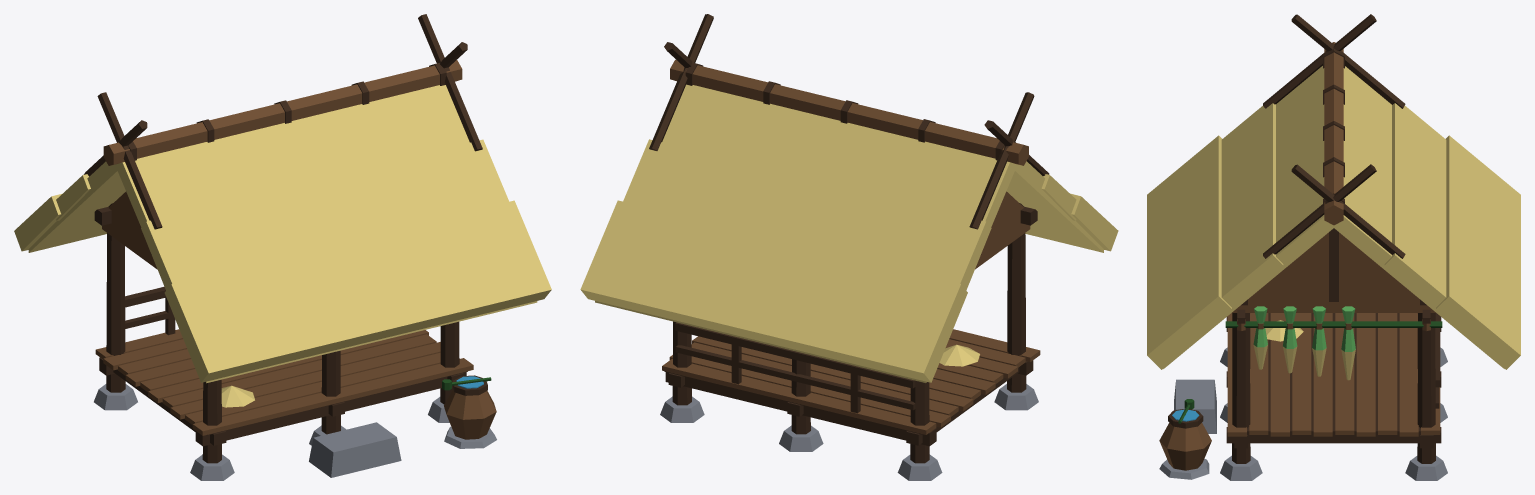
3 renders of one model, left to right at view 1: azimuth 30°, elevation 25°; view 2: azimuth 150°, elevation 25°; view 3: azimuth 270°, elevation 25°, orthographic. The views are drawn at different scales.
Parts seen in each view (by area): view 1: roof-straw, deck-earth-brown, roof-earth-brown, frame-dark-wood, footings-mid-grey, horns-dark-wood, deck-dark-wood, water_jar-earth-brown, gables-earth-brown, back_rail-dark-wood, roof-dark-wood, water_jar-mid-grey (+1 smaller); view 2: roof-straw, deck-earth-brown, roof-earth-brown, frame-dark-wood, back_rail-dark-wood, deck-dark-wood, horns-dark-wood, footings-mid-grey, gables-earth-brown, roof-dark-wood, hat-straw; view 3: roof-straw, deck-earth-brown, gables-earth-brown, horns-dark-wood, frame-dark-wood, deck-dark-wood, footings-mid-grey, roof-earth-brown, water_jar-earth-brown, drying-rice-green-light, drying-rice-green-dark, drying-straw (+4 smaller).
Part boxes in pixels (x1=…): roof-straw: x1=14, y1=85, x2=551, y2=383; deck-earth-brown: x1=95, y1=329, x2=473, y2=435; roof-earth-brown: x1=103, y1=60, x2=462, y2=165; frame-dark-wood: x1=94, y1=203, x2=459, y2=463; footings-mid-grey: x1=94, y1=384, x2=449, y2=480; horns-dark-wood: x1=83, y1=14, x2=482, y2=229; deck-dark-wood: x1=99, y1=357, x2=467, y2=446; water_jar-earth-brown: x1=444, y1=389, x2=496, y2=439; gables-earth-brown: x1=102, y1=191, x2=157, y2=269; back_rail-dark-wood: x1=125, y1=286, x2=175, y2=335; roof-dark-wood: x1=128, y1=63, x2=446, y2=160; water_jar-mid-grey: x1=444, y1=426, x2=496, y2=448; roof-straw: x1=580, y1=84, x2=1118, y2=382; deck-earth-brown: x1=662, y1=329, x2=1040, y2=434; roof-earth-brown: x1=670, y1=59, x2=1028, y2=165; frame-dark-wood: x1=672, y1=203, x2=1037, y2=463; back_rail-dark-wood: x1=675, y1=322, x2=915, y2=413; deck-dark-wood: x1=664, y1=360, x2=1033, y2=446; horns-dark-wood: x1=649, y1=14, x2=1049, y2=229; footings-mid-grey: x1=660, y1=384, x2=1038, y2=480; gables-earth-brown: x1=975, y1=191, x2=1030, y2=269; roof-dark-wood: x1=685, y1=62, x2=1004, y2=160; hat-straw: x1=939, y1=344, x2=979, y2=366; roof-straw: x1=1147, y1=66, x2=1520, y2=369; deck-earth-brown: x1=1227, y1=313, x2=1440, y2=436; gables-earth-brown: x1=1232, y1=232, x2=1435, y2=312; horns-dark-wood: x1=1263, y1=14, x2=1405, y2=258; frame-dark-wood: x1=1232, y1=299, x2=1435, y2=463; deck-dark-wood: x1=1226, y1=313, x2=1441, y2=448; footings-mid-grey: x1=1174, y1=347, x2=1447, y2=480; roof-earth-brown: x1=1324, y1=42, x2=1343, y2=225; water_jar-earth-brown: x1=1159, y1=423, x2=1211, y2=470; drying-rice-green-light: x1=1253, y1=306, x2=1355, y2=351; drying-rice-green-dark: x1=1225, y1=321, x2=1442, y2=327; drying-straw: x1=1253, y1=345, x2=1355, y2=380.
Size of the model in its own units: 3.96 by 3.71 by 3.83.
